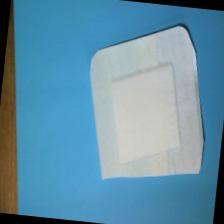Cut: (69, 11, 223, 199)
